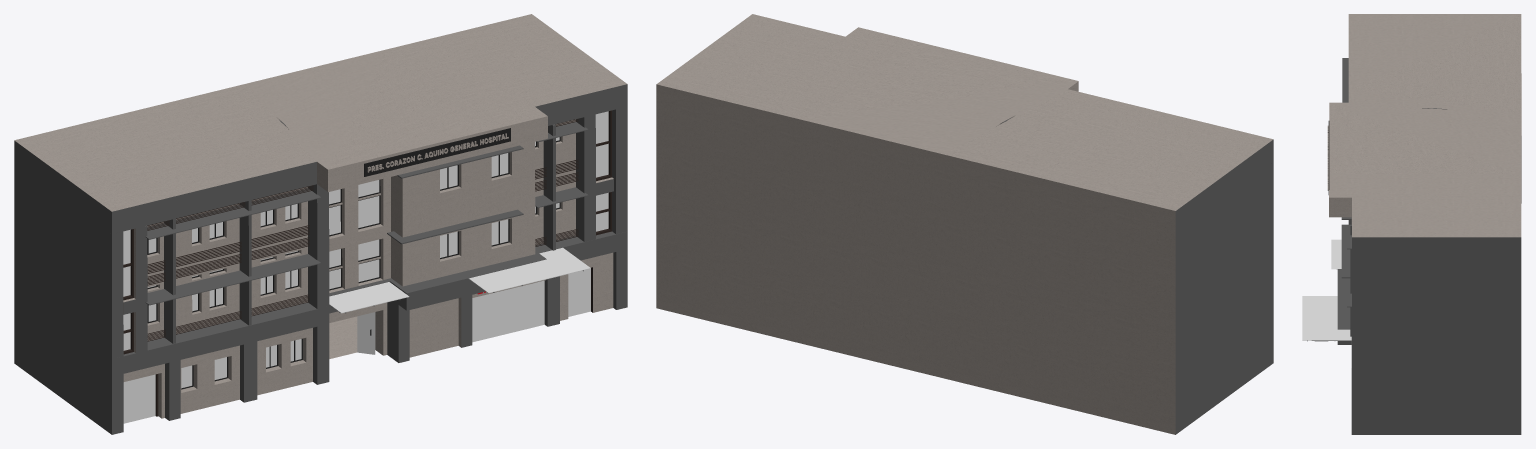
Rendered from Hospital.fbx.
3 renders of one model, left to right at view 1: azimuth 30°, elevation 25°; view 2: azimuth 150°, elevation 25°; view 3: azimuth 270°, elevation 25°, orthographic. The views are drawn at different scales.
Parts seen in each view (by area): view 1: Hospital; view 2: Hospital; view 3: Hospital.
Boxes of the visible parts, x1,y1,x2,y2 form: Hospital: (14,14,627,434); Hospital: (656,14,1273,434); Hospital: (1302,14,1521,434).
Size of the model in its own units: 40.84 by 16.84 by 16.91.
